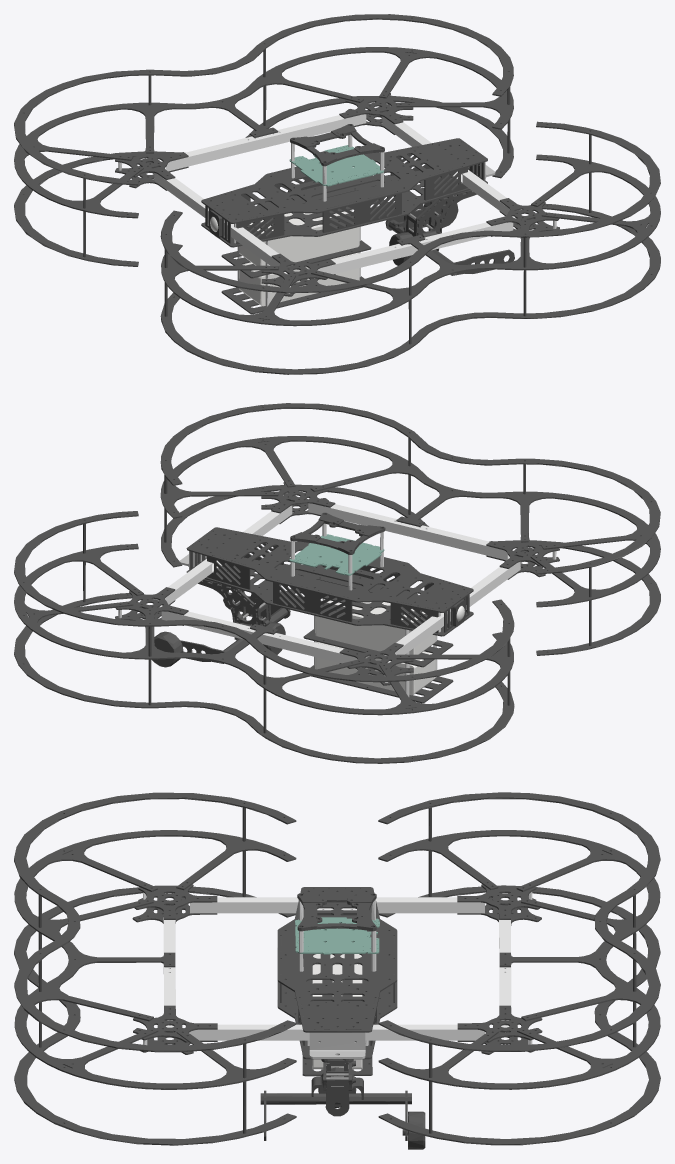
The model's file is NAKI_legless_frame.dae.
The picture shows the model from 3 angles, top to bottom: view 1: azimuth 30°, elevation 25°; view 2: azimuth 150°, elevation 25°; view 3: azimuth 270°, elevation 25°; orthographic projection. The views are drawn at different scales.
Parts seen in each view (by area): view 1: NAKI_II_CPS_shorter_v4, NAKI_II_CPS_Mid_shorter_v7, NAKI_II_base_layer_top_v43, motor_mount_v6, Arm_Vertical_v3, Tattu_6S_8000mAh_25C_v4, NAKI_II_base_layer_bot_v59, Arm_Horizontal_v4, NAKI_II_Side_B_v5, MB_NUC_INTEL_FN, NAKI_II_bat_layer_v29, NAKI_II_Side_A_v13 (+5 smaller); view 2: NAKI_II_CPS_shorter_v4, NAKI_II_CPS_Mid_shorter_v7, NAKI_II_base_layer_top_v43, motor_mount_v6, Arm_Vertical_v3, Tattu_6S_8000mAh_25C_v4, NAKI_II_base_layer_bot_v59, Arm_Horizontal_v4, NAKI_II_Side_B_v5, MB_NUC_INTEL_FN, NAKI_II_Side_A_v13, NAKI_II_bat_layer_v29 (+6 smaller); view 3: NAKI_II_CPS_shorter_v4, NAKI_II_CPS_Mid_shorter_v7, NAKI_II_base_layer_top_v43, motor_mount_v6, Arm_Horizontal_v4, NAKI_II_base_layer_bot_v59, MB_NUC_INTEL_FN, Arm_Vertical_v3, OS0_holder_v1, Realsense_holder_v6, GB_Carbon_tube_190mm_v1, carbon_tube_4-3_75mm_v2 (+4 smaller).
Boxes of the visible parts, x1,y1,x2,y2 form: NAKI_II_CPS_shorter_v4: [14, 14, 660, 374]; NAKI_II_CPS_Mid_shorter_v7: [14, 47, 660, 326]; NAKI_II_base_layer_top_v43: [201, 138, 487, 223]; motor_mount_v6: [115, 93, 559, 296]; Arm_Vertical_v3: [161, 114, 513, 278]; Tattu_6S_8000mAh_25C_v4: [239, 211, 359, 306]; NAKI_II_base_layer_bot_v59: [201, 168, 487, 247]; Arm_Horizontal_v4: [154, 116, 519, 274]; NAKI_II_Side_B_v5: [208, 144, 467, 244]; MB_NUC_INTEL_FN: [289, 145, 384, 186]; NAKI_II_bat_layer_v29: [221, 240, 371, 314]; NAKI_II_Side_A_v13: [275, 167, 401, 232]; NAKI_II_CPS_shorter_v4: [14, 403, 660, 763]; NAKI_II_CPS_Mid_shorter_v7: [14, 436, 660, 715]; NAKI_II_base_layer_top_v43: [186, 527, 473, 612]; motor_mount_v6: [115, 482, 559, 685]; Arm_Vertical_v3: [161, 503, 512, 667]; Tattu_6S_8000mAh_25C_v4: [315, 600, 435, 695]; NAKI_II_base_layer_bot_v59: [186, 557, 473, 636]; Arm_Horizontal_v4: [154, 505, 520, 663]; NAKI_II_Side_B_v5: [207, 533, 466, 633]; MB_NUC_INTEL_FN: [289, 534, 384, 575]; NAKI_II_Side_A_v13: [273, 557, 399, 621]; NAKI_II_bat_layer_v29: [303, 629, 453, 703]; NAKI_II_CPS_shorter_v4: [14, 792, 660, 1145]; NAKI_II_CPS_Mid_shorter_v7: [14, 830, 660, 1089]; NAKI_II_base_layer_top_v43: [277, 887, 397, 1032]; motor_mount_v6: [132, 884, 542, 1054]; Arm_Horizontal_v4: [190, 897, 484, 1040]; NAKI_II_base_layer_bot_v59: [277, 915, 397, 1059]; MB_NUC_INTEL_FN: [295, 917, 379, 954]; Arm_Vertical_v3: [163, 917, 511, 1027]; OS0_holder_v1: [297, 893, 376, 931]; Realsense_holder_v6: [309, 1032, 365, 1058]; GB_Carbon_tube_190mm_v1: [260, 1093, 411, 1104]; carbon_tube_4-3_75mm_v2: [38, 851, 636, 1133].
Size of the model in its own units: 0.7687 by 0.8118 by 0.2225.
